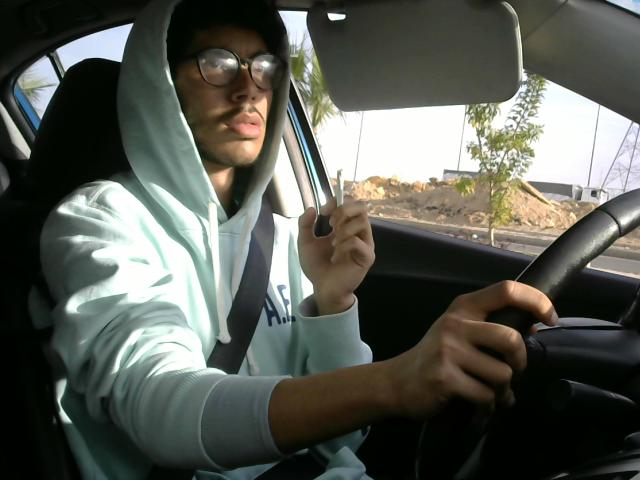Smoking: (327, 166, 354, 234)
